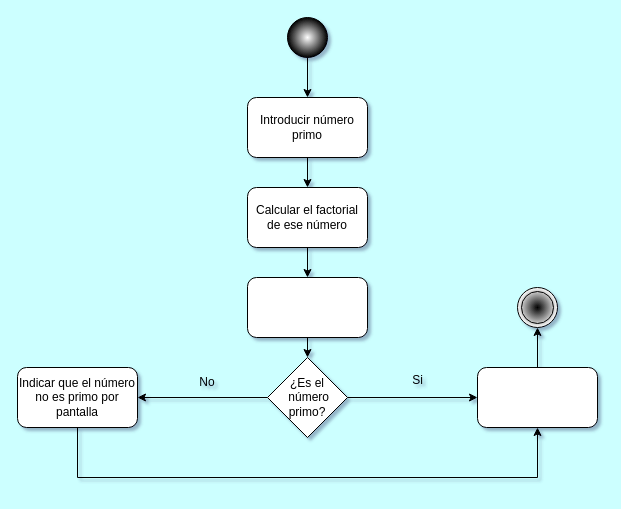
The diagram is 621 pixels wide and 509 high, and some of its shapes have lost their labels. Each missing label, with the box of its shape:
Fin del programa: (476, 366, 598, 428)
Mostrar el cálculo por pantalla: (246, 276, 368, 338)
